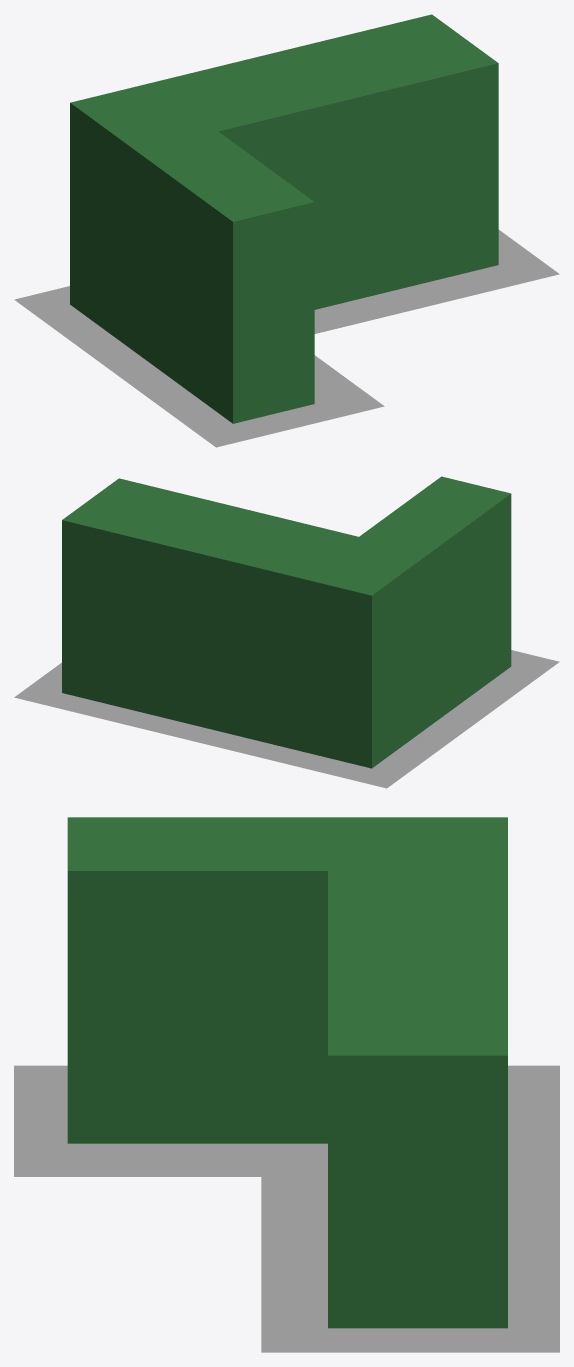
The model's file is Building_1.fbx.
3 views of the same model, one above another, from view 1: azimuth 30°, elevation 25°; view 2: azimuth 150°, elevation 25°; view 3: azimuth 270°, elevation 25° (orthographic). The views are drawn at different scales.
Parts seen in each view (by area): view 1: building1, shdw1; view 2: building1, shdw1; view 3: building1, shdw1.
Part boxes in pixels (<box>): building1: <box>70,14,498,423</box>; shdw1: <box>14,230,559,447</box>; building1: <box>62,476,511,768</box>; shdw1: <box>14,650,559,788</box>; building1: <box>67,817,507,1328</box>; shdw1: <box>14,1065,559,1352</box>.
Bounding box in the file's own units: 154 × 68.39 × 124.
